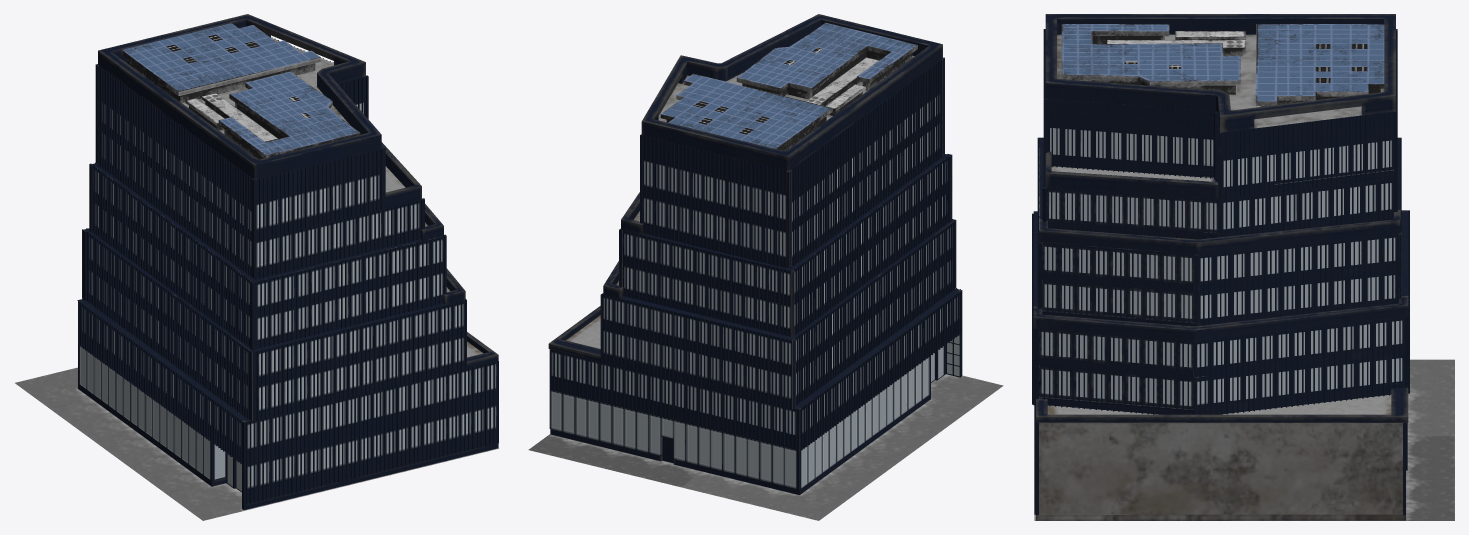
Rendered from commercial_building (1).glb.
3 renders of one model, left to right at view 1: azimuth 30°, elevation 25°; view 2: azimuth 150°, elevation 25°; view 3: azimuth 270°, elevation 25°, orthographic. The views are drawn at different scales.
Visible parts, largest first — view 1: Plane.005, Cube.072, Cube.031, Plane.007, Cube.001, Cube.070, Cube.003, Cube.042, Cube.008, Cube.029, Cube.032, Cube.007 (+25 smaller); view 2: Plane.005, Cube.072, Plane.007, Plane, Cube.031, Cube.004, Cube.003, Cube.014, Cube.005, Cube.029, Cube.007, Cube.017 (+24 smaller); view 3: Plane.005, Plane.004, Cube.072, Cube.044, Cube.068, Plane.007, Cube.056, Cube.057, Cube.062, Cube.046, Cube.060, Cube.064 (+18 smaller).
Part boxes in pixels (<box>): Plane.005: <box>77,14,498,422</box>; Cube.072: <box>121,23,360,159</box>; Cube.031: <box>98,66,252,238</box>; Plane.007: <box>15,367,498,520</box>; Cube.001: <box>247,360,497,464</box>; Cube.070: <box>247,403,497,503</box>; Cube.003: <box>78,302,241,463</box>; Cube.042: <box>256,149,380,239</box>; Cube.008: <box>246,360,498,465</box>; Cube.029: <box>98,126,252,277</box>; Cube.032: <box>258,334,465,419</box>; Cube.007: <box>85,265,248,419</box>; Plane.005: <box>548,14,961,409</box>; Cube.072: <box>660,22,917,150</box>; Plane.007: <box>528,374,1003,520</box>; Plane: <box>550,390,796,488</box>; Cube.031: <box>790,60,942,228</box>; Cube.004: <box>550,349,795,449</box>; Cube.003: <box>801,291,961,450</box>; Cube.014: <box>643,135,786,228</box>; Cube.005: <box>549,349,796,450</box>; Cube.029: <box>790,119,942,267</box>; Cube.007: <box>795,255,954,406</box>; Cube.017: <box>794,222,954,371</box>; Plane.005: <box>1033,14,1408,422</box>; Plane.004: <box>1039,423,1402,514</box>; Cube.072: <box>1061,24,1384,106</box>; Cube.044: <box>1047,99,1215,177</box>; Cube.068: <box>1222,111,1393,199</box>; Plane.007: <box>1034,359,1454,520</box>; Cube.056: <box>1195,353,1404,414</box>; Cube.057: <box>1195,316,1404,377</box>; Cube.062: <box>1198,233,1397,291</box>; Cube.046: <box>1047,188,1218,239</box>; Cube.060: <box>1198,270,1397,325</box>; Cube.064: <box>1221,178,1393,236</box>.
Size of the model in its own units: 2.45 by 2.67 by 2.72.
1 material, 1 textured.
